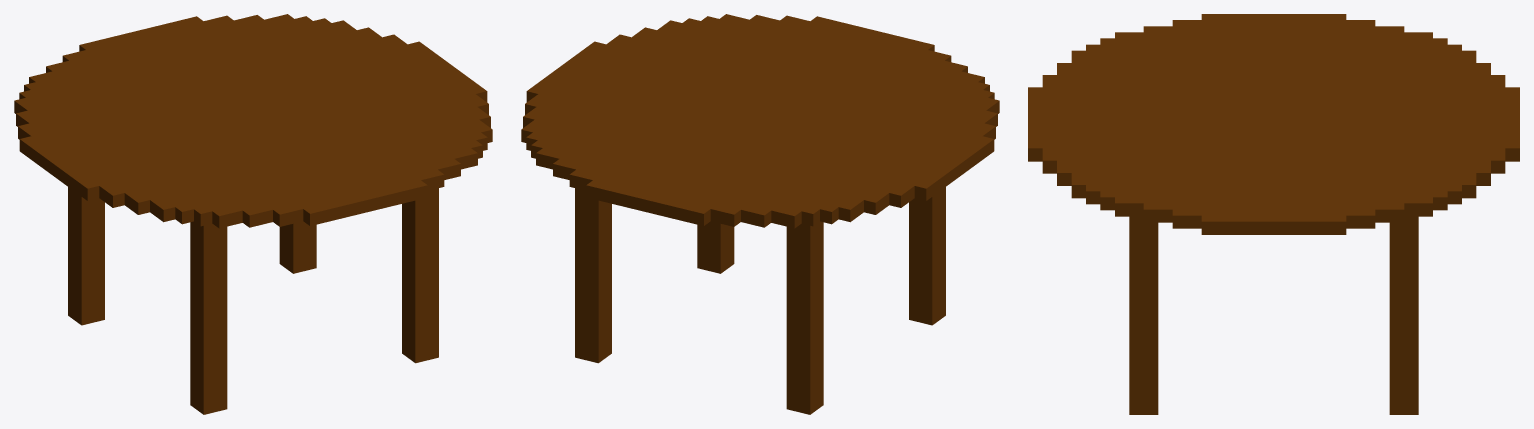
Rendered from Table.obj.
3 renders of one model, left to right at view 1: azimuth 30°, elevation 25°; view 2: azimuth 150°, elevation 25°; view 3: azimuth 270°, elevation 25°, orthographic. The views are drawn at different scales.
Visible parts, largest first — view 1: Table; view 2: Table; view 3: Table.
Part boxes in pixels (x1,y1,x2,y2): Table: (14,14,492,414); Table: (521,14,999,414); Table: (1028,14,1519,414).
Bounding box in the file's own units: 34 × 18 × 34.
1 material, 1 textured.
